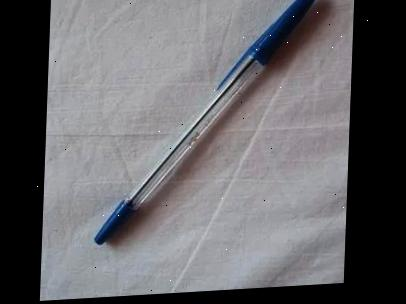pen-pencil: (96, 0, 313, 243)
